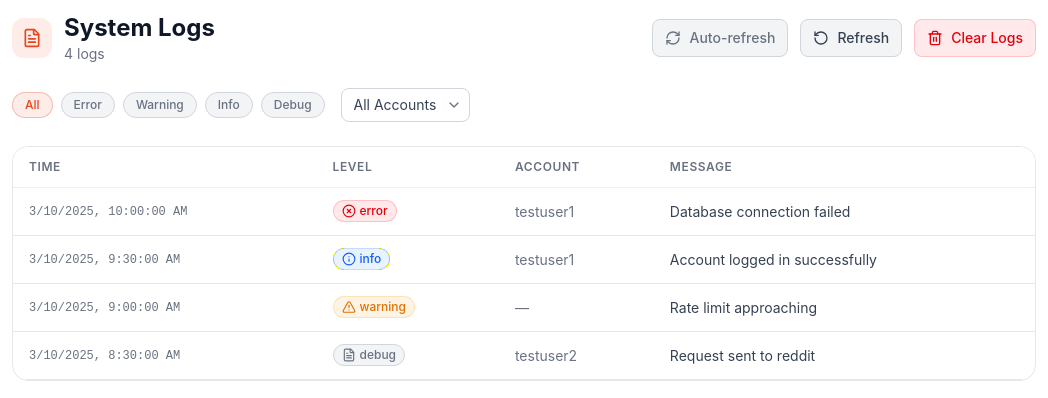
Test case: SystemLogs › filters logs by level when clicking filter pills
expect the text "Database connection failed" is shown: met, box [654, 188, 1035, 236]
// Click "Error" filter
Click the button "Error".
click(88, 105)  # box [61, 92, 115, 118]
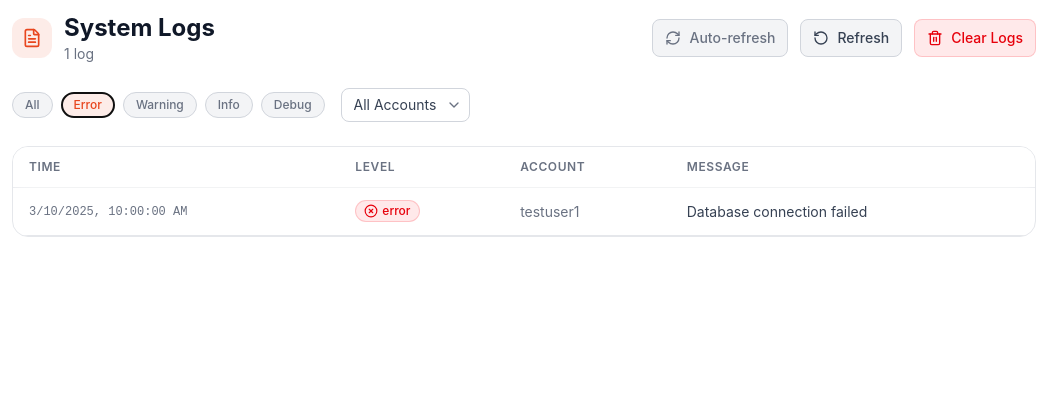
expect the text "Database connection failed" is shown: met, box [671, 188, 1035, 236]
expect the text "Account logged in successfully" is gone: met
expect the text "Rate limit approaching" is gone: met
